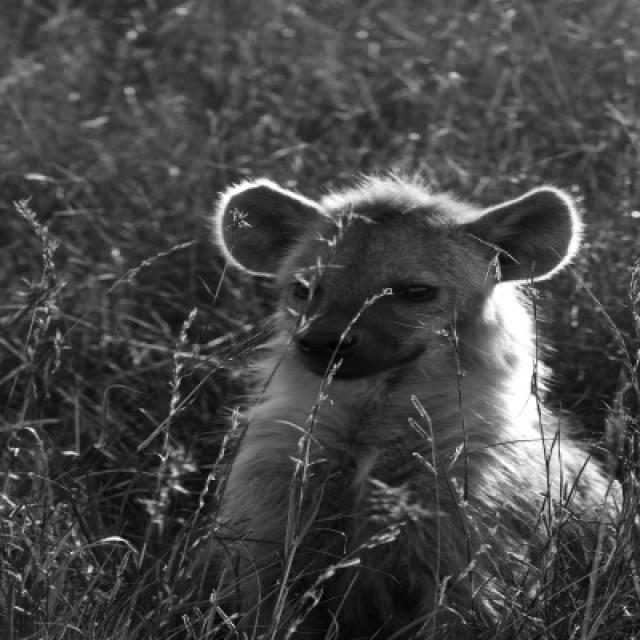hyena: (218, 178, 622, 638)
